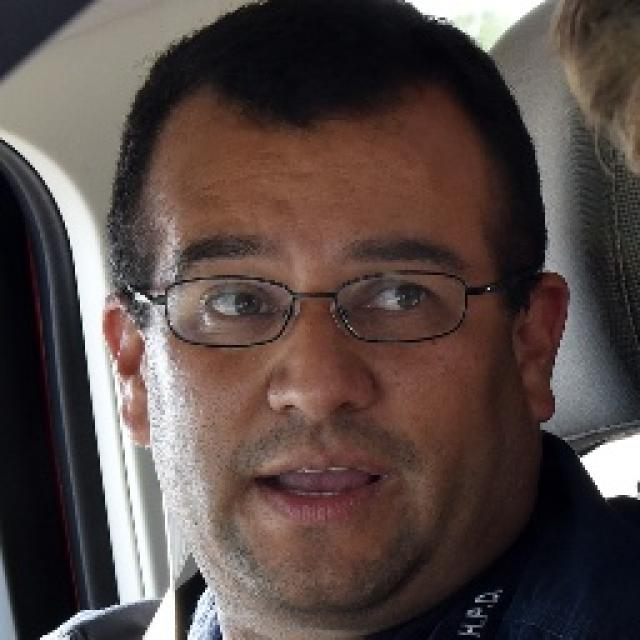earlobe: (520, 381, 562, 426), (119, 402, 152, 452)
eye: (357, 281, 440, 321), (198, 287, 280, 326)
nose: (268, 396, 375, 449)
wholeear: (511, 272, 570, 427), (101, 293, 152, 453)
